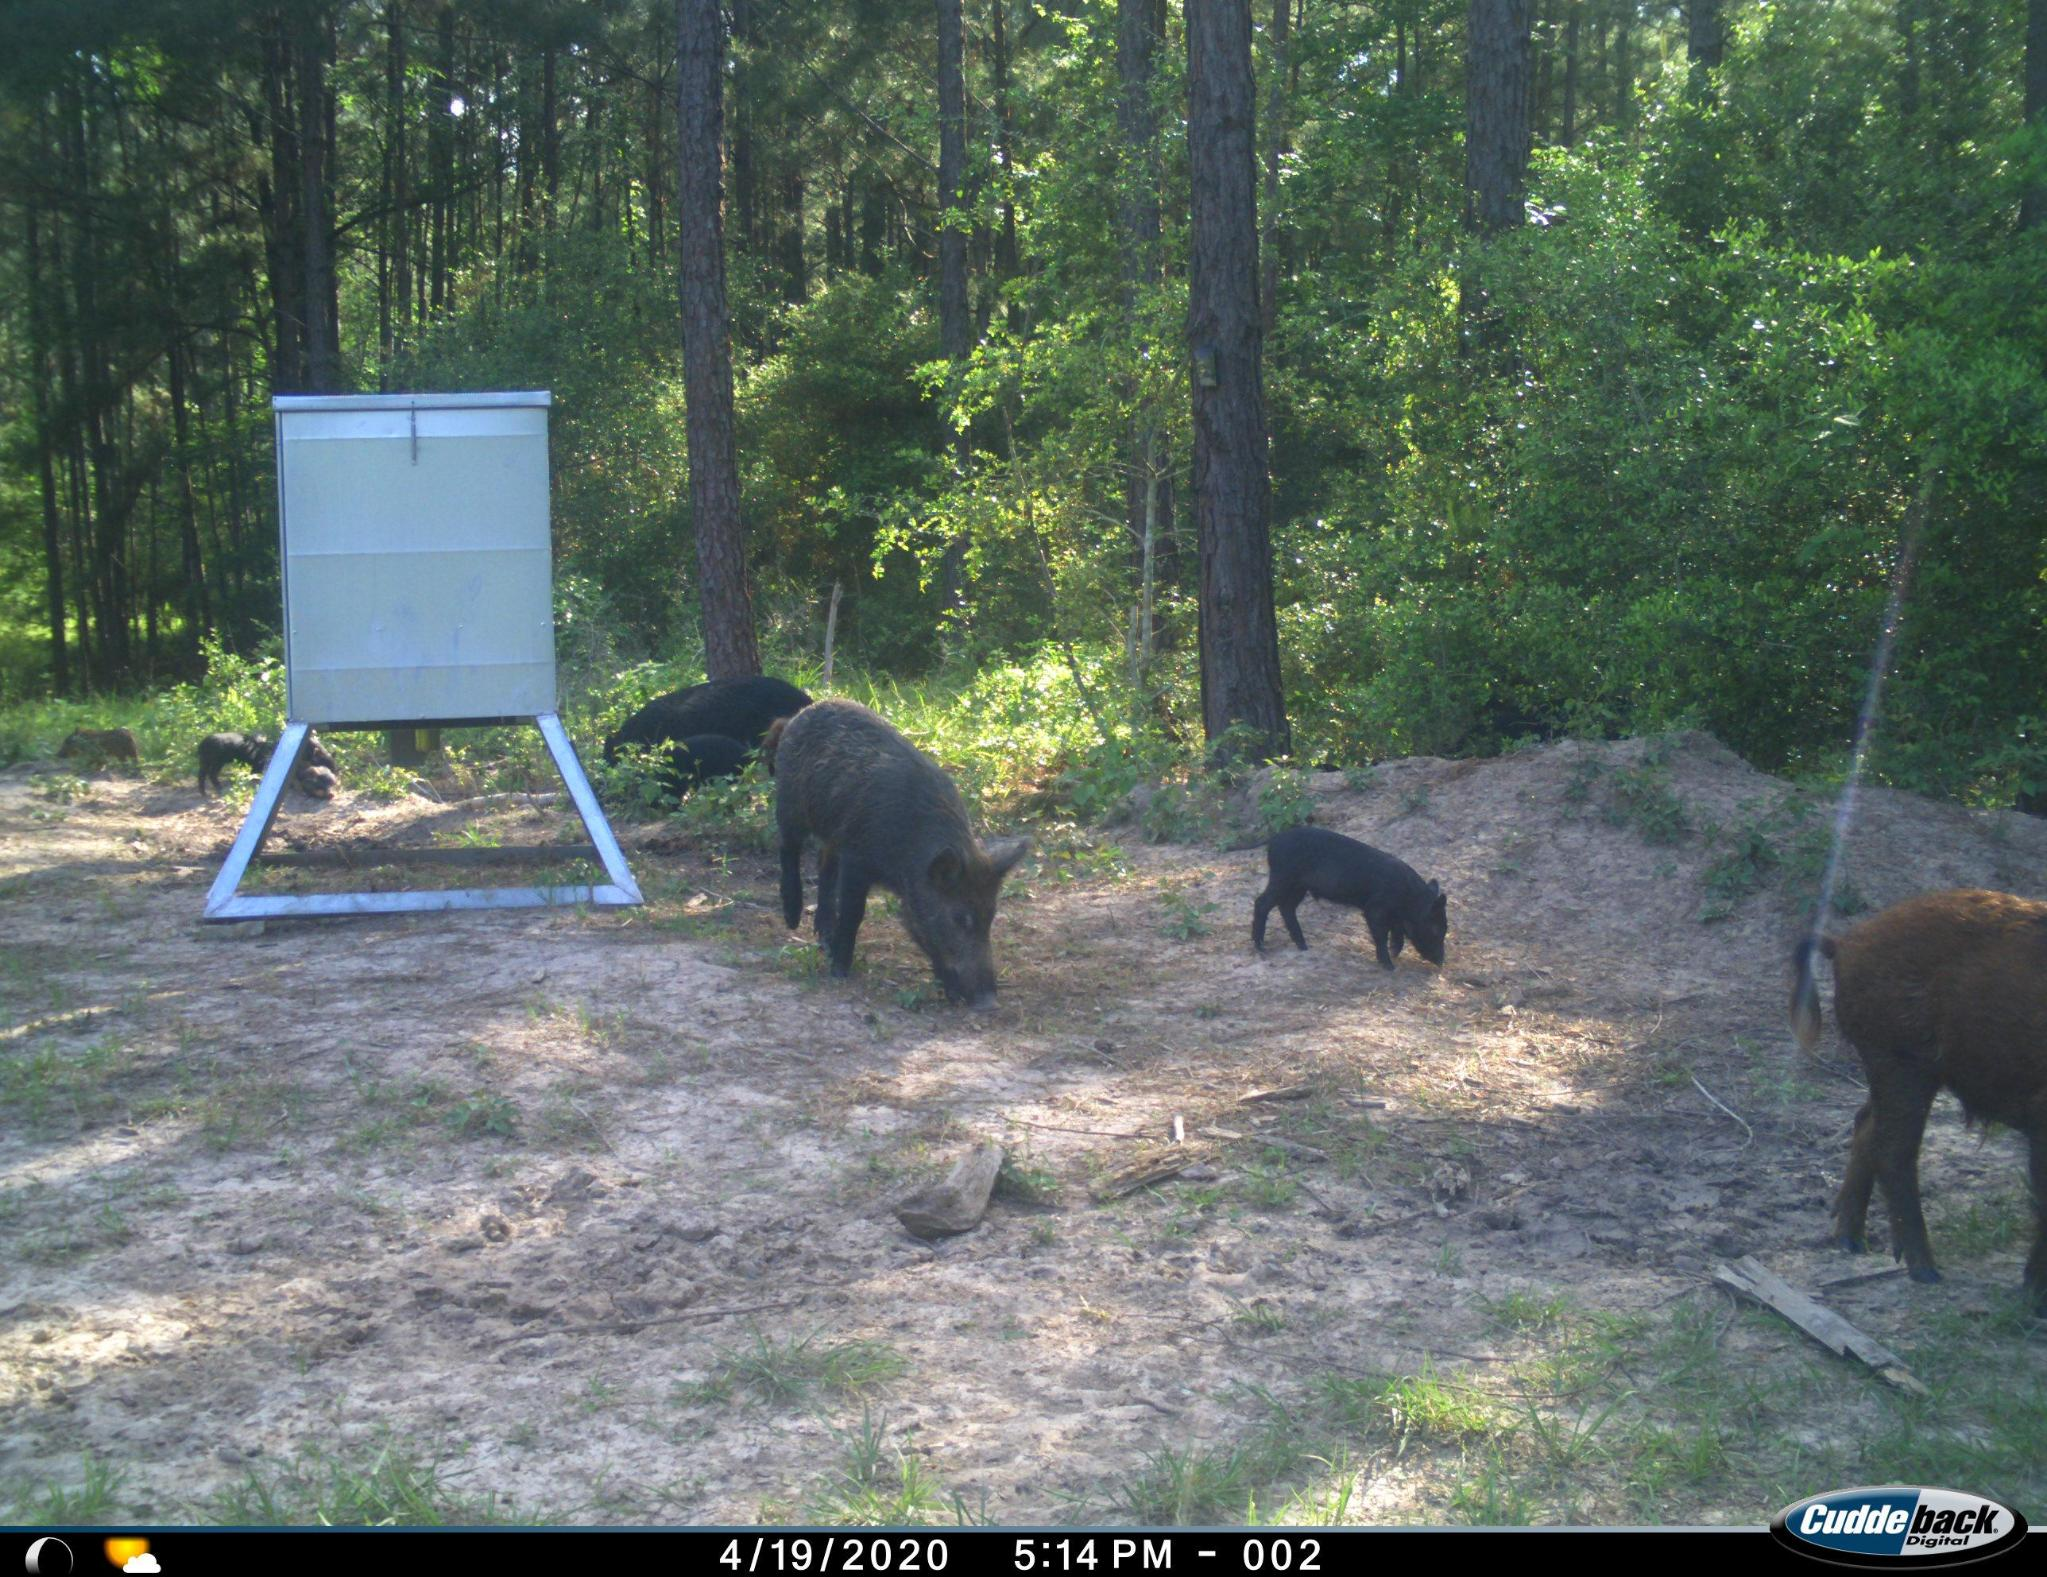Hog: (1760, 876, 2047, 1309), (750, 689, 1038, 1024), (1226, 813, 1466, 987), (611, 671, 818, 798), (46, 714, 154, 777), (192, 722, 267, 792)
